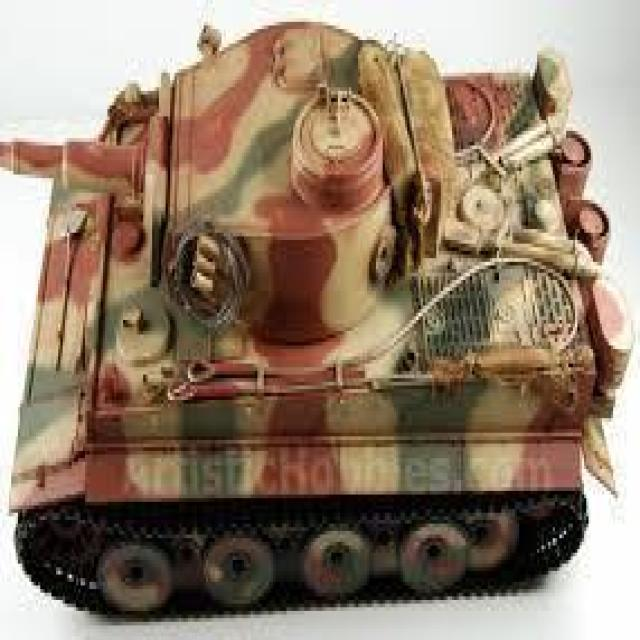Tanks: (8, 15, 634, 600)
